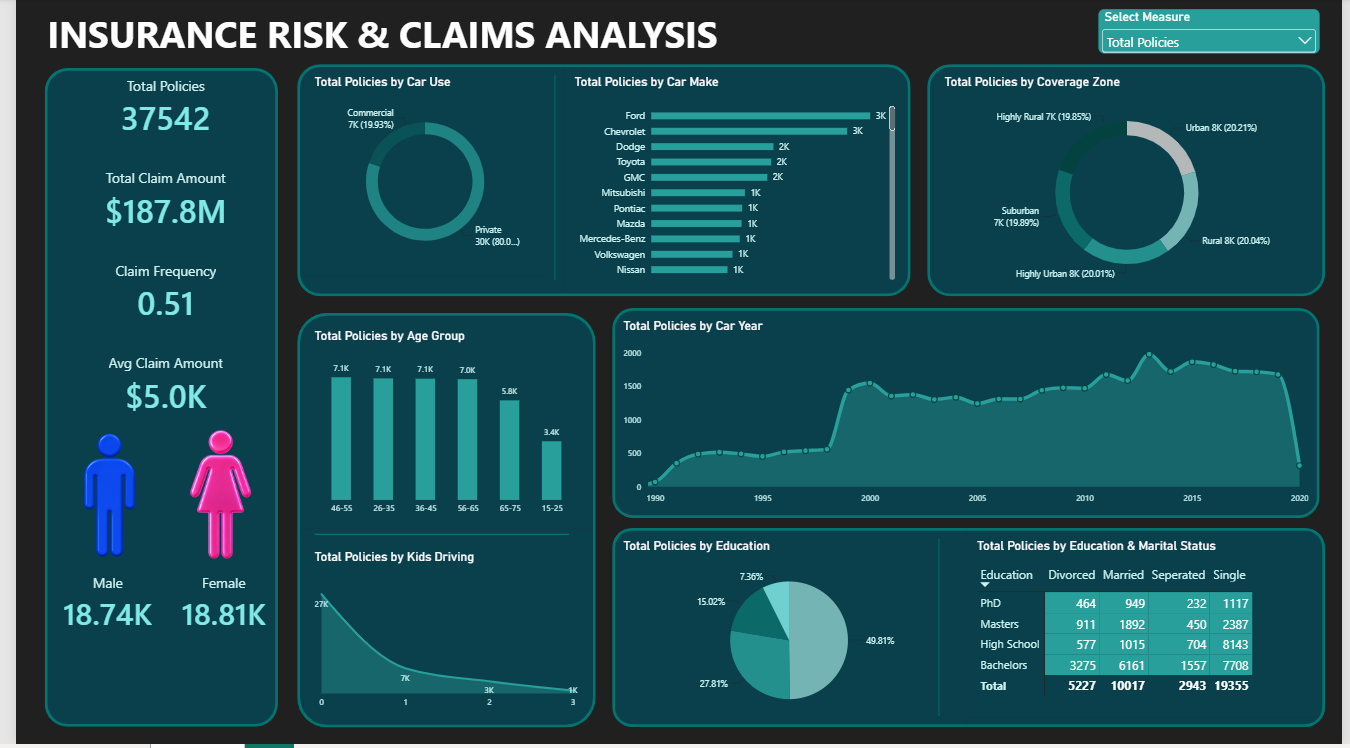

The dashboard page shown, as its layout file describes it:
{"tool":"powerbi","page":{"name":"Page 1","canvas":[1920,1080],"ordinal":0},"visuals":[{"type":"textbox","box":[45.3,14.4,996.2,78.2],"z":0},{"type":"shape","box":[41.6,101.3,337.6,953.8],"z":1000},{"type":"shape","box":[408,96,888,336],"z":2000},{"type":"shape","box":[1320,96,576,336],"z":3000},{"type":"shape","box":[408,456,432,600],"z":4000},{"type":"shape","box":[864,448,1024,304],"z":5000},{"type":"shape","box":[864,768,1032,288],"z":6000},{"type":"cardVisual","fields":{"Data":["insurance_data_car.Total Policies","insurance_data_car.Total Claim Amount","insurance_data_car.Claim Frequency","insurance_data_car.Avg Claim Amount"]},"box":[48,96,336,528],"z":7000},{"type":"cardVisual","fields":{"Data":["insurance_data_car.Male","insurance_data_car.Female"]},"box":[48,816,336,120],"z":8000},{"type":"image","box":[224,624,144,192],"z":9000},{"type":"shape","box":[664,112,232,296],"z":10000},{"type":"barChart","fields":{"Y":["insurance_data_car.Total Policies"],"Category":["insurance_data_car.Car Make"]},"box":[792,96,496,328],"z":11000},{"type":"donutChart","fields":{"Y":["insurance_data_car.Total Policies"],"Category":["insurance_data_car.Coverage Zone"]},"box":[1328,96,560,336],"z":12000},{"type":"columnChart","fields":{"Y":["insurance_data_car.Total Policies"],"Category":["insurance_data_car.Age Group"]},"box":[416,464,416,304],"z":13000},{"type":"shape","box":[432,736,368,80],"z":14000},{"type":"areaChart","fields":{"Y":["insurance_data_car.Total Policies"],"Category":["insurance_data_car.Kids Driving"]},"box":[416,784,416,264],"z":15000},{"type":"stackedAreaChart","fields":{"Y":["insurance_data_car.Total Policies"],"Category":["insurance_data_car.Car Year"]},"box":[864,448,1024,304],"z":16000},{"type":"pieChart","fields":{"Y":["insurance_data_car.Total Policies"],"Category":["insurance_data_car.Education"]},"box":[864,768,512,288],"z":17000},{"type":"shape","box":[1216,784,240,256],"z":18000},{"type":"pivotTable","fields":{"Values":["insurance_data_car.Total Policies"],"Rows":["insurance_data_car.Education"],"Columns":["insurance_data_car.Marital Status"]},"box":[1376,768,544,272],"z":19000},{"type":"slicer","fields":{"Values":["Select Measure .Select Measure "]},"box":[1568,16,320,64],"z":20000},{"type":"donutChart","fields":{"Y":["insurance_data_car.Total Policies"],"Category":["insurance_data_car.Car Use"]},"box":[416,96,352,304],"z":21000},{"type":"image","box":[64,624,144,192],"z":22000}]}

Visuals, with their boxes in screenshot pixels (x1, y1, x2, y2), scaled from the page's 1920x1080 canvas onto the 1350x748 screenshot:
textbox: 32/10/732/64
shape: 29/70/267/731
shape: 287/66/911/299
shape: 928/66/1333/299
shape: 287/316/591/731
shape: 608/310/1328/521
shape: 608/532/1333/731
cardVisual - insurance_data_car.Total Policies x insurance_data_car.Total Claim Amount: 34/66/270/432
cardVisual - insurance_data_car.Male x insurance_data_car.Female: 34/565/270/648
image: 158/432/259/565
shape: 467/78/630/283
barChart - insurance_data_car.Total Policies x insurance_data_car.Car Make: 557/66/906/294
donutChart - insurance_data_car.Total Policies x insurance_data_car.Coverage Zone: 934/66/1328/299
columnChart - insurance_data_car.Total Policies x insurance_data_car.Age Group: 292/321/585/532
shape: 304/510/562/565
areaChart - insurance_data_car.Total Policies x insurance_data_car.Kids Driving: 292/543/585/726
stackedAreaChart - insurance_data_car.Total Policies x insurance_data_car.Car Year: 608/310/1328/521
pieChart - insurance_data_car.Total Policies x insurance_data_car.Education: 608/532/968/731
shape: 855/543/1024/720
pivotTable - insurance_data_car.Total Policies x insurance_data_car.Education: 968/532/1349/720
slicer - Select Measure .Select Measure : 1102/11/1328/55
donutChart - insurance_data_car.Total Policies x insurance_data_car.Car Use: 292/66/540/277
image: 45/432/146/565
